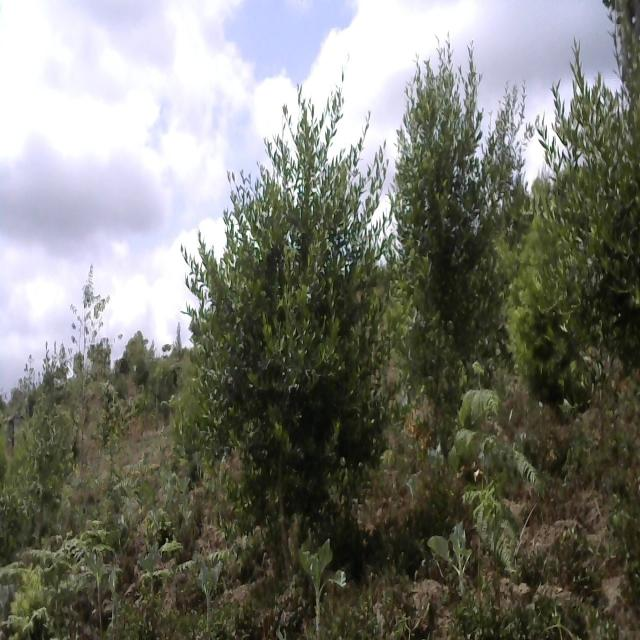Olea europea -africana-: (174, 64, 386, 601), (369, 11, 535, 414), (539, 41, 640, 414)
